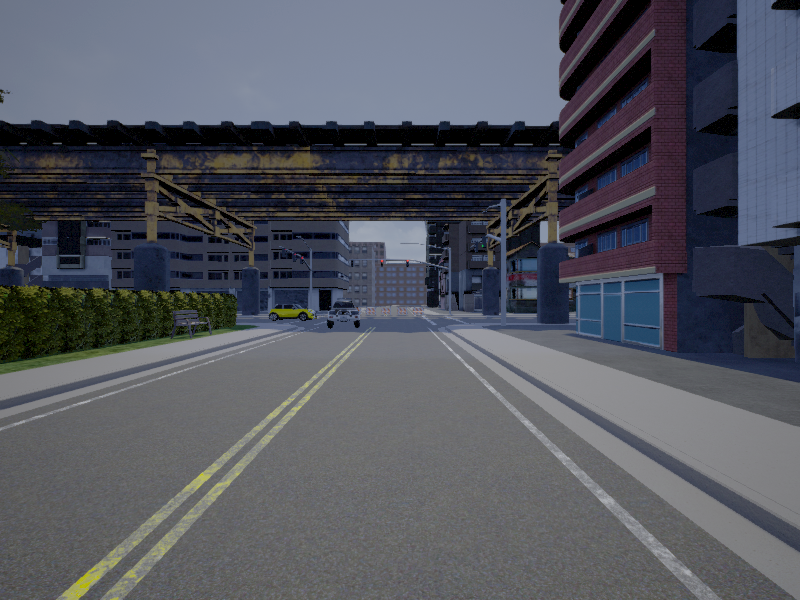Benign: (327, 301, 362, 329), (266, 304, 317, 322)
